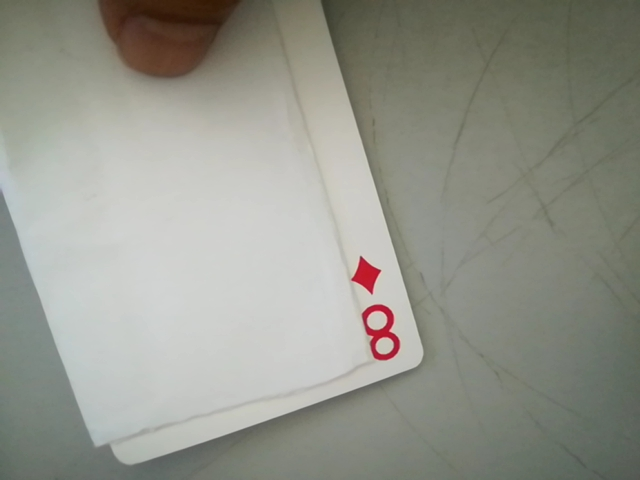fk 8: (341, 250, 415, 368)
